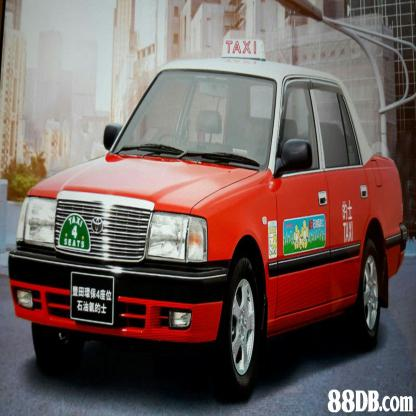taxi: (7, 33, 412, 409)
